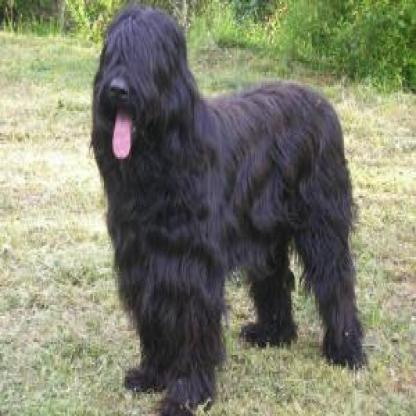Bouvier_des_Flandres: (88, 6, 364, 408)
